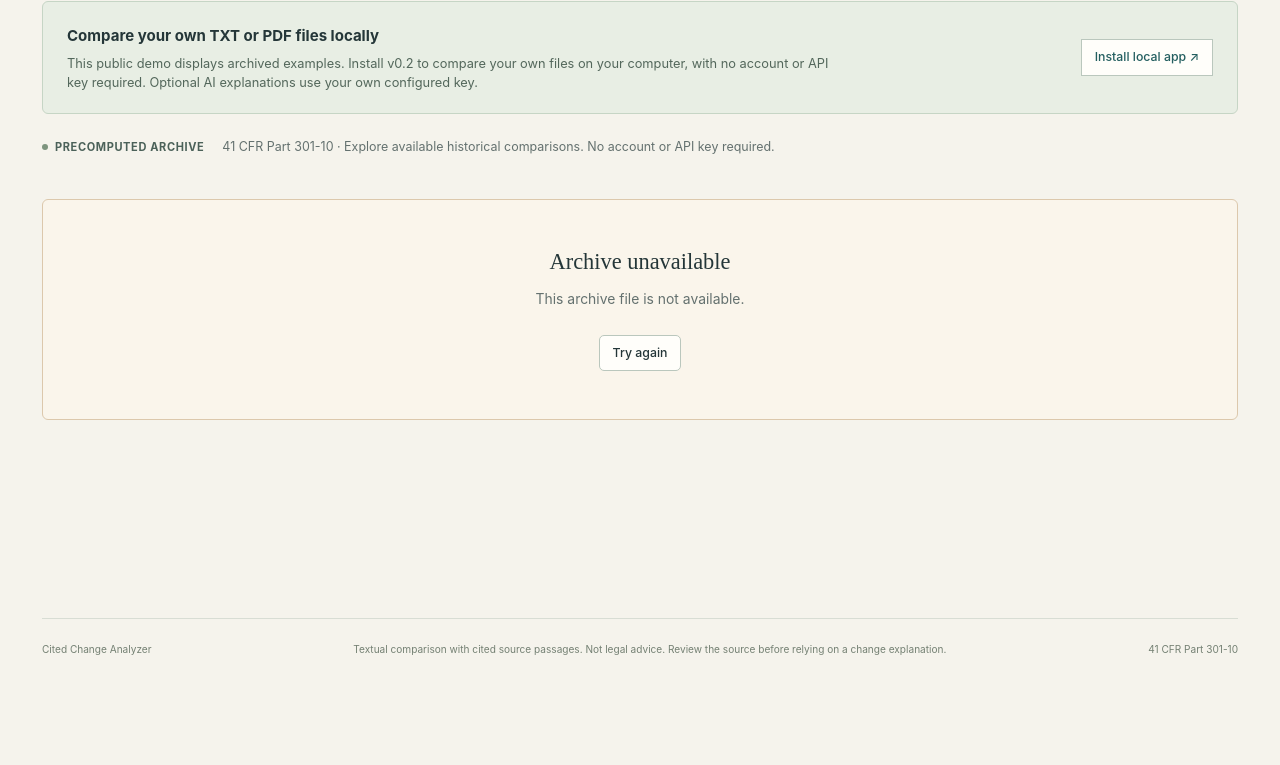
Test case: archive review › recovers from an unavailable catalog with a bounded user retry
Check: the heading "Archive unavailable" is shown, box [550, 249, 730, 274]
Click the button "Try again" at (640, 353), box [599, 334, 681, 371]
(page scrolled)
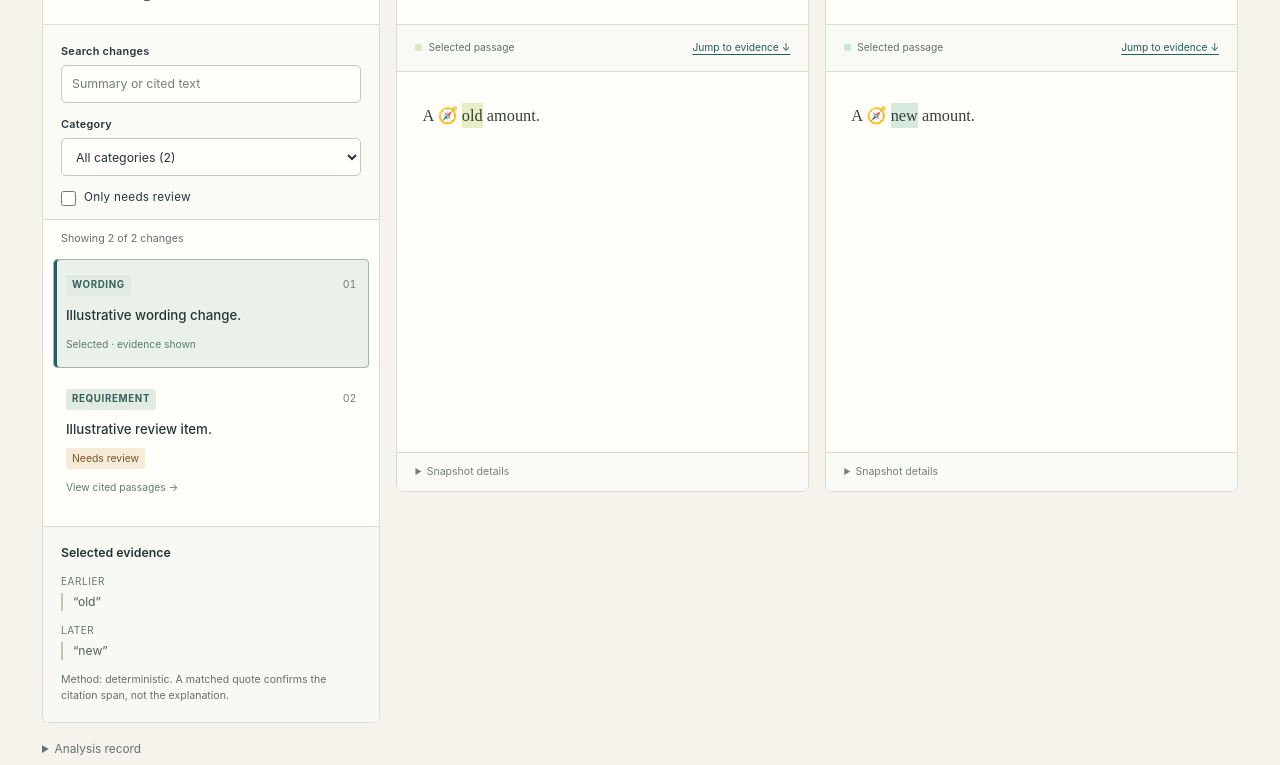
Check: the text "Illustrative wording change." is shown, box [66, 307, 241, 323]
